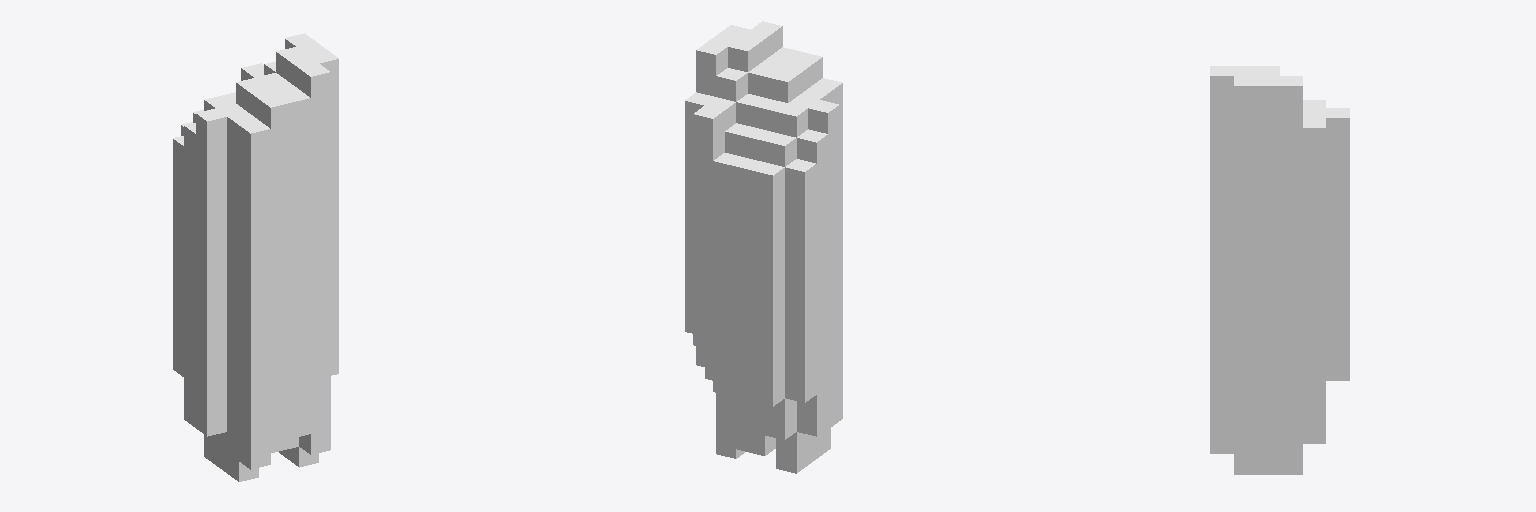
Rendered from Blonde-8.obj.
The picture shows the model from 3 angles: view 1: azimuth 30°, elevation 25°; view 2: azimuth 150°, elevation 25°; view 3: azimuth 270°, elevation 25°; orthographic projection.
Parts seen in each view (by area): view 1: object 1; view 2: object 1; view 3: object 1.
Boxes of the visible parts, box(x1,y1,x2,y2) form: object 1: box(173, 33, 338, 481); object 1: box(685, 21, 842, 473); object 1: box(1210, 66, 1349, 474).
Size of the model in its own units: 0.6 by 1.9 by 0.6.